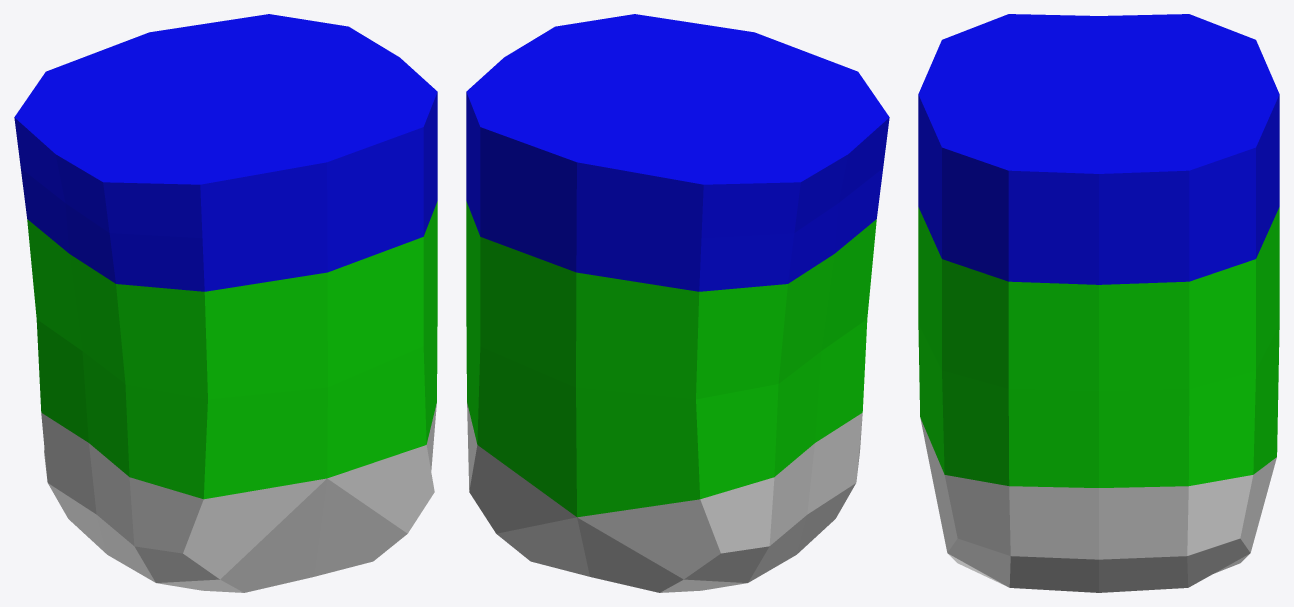
Rendered from eau_crystalisation.fbx.
3 renders of one model, left to right at view 1: azimuth 30°, elevation 25°; view 2: azimuth 150°, elevation 25°; view 3: azimuth 270°, elevation 25°, orthographic.
Parts seen in each view (by area): view 1: Eau.003; view 2: Eau.003; view 3: Eau.003.
Part boxes in pixels (box(x1,y1,x2,y2)): Eau.003: box(14, 14, 437, 592); Eau.003: box(466, 14, 889, 592); Eau.003: box(918, 14, 1279, 592).
Bounding box in the file's own units: 23.62 × 29.56 × 21.1.
